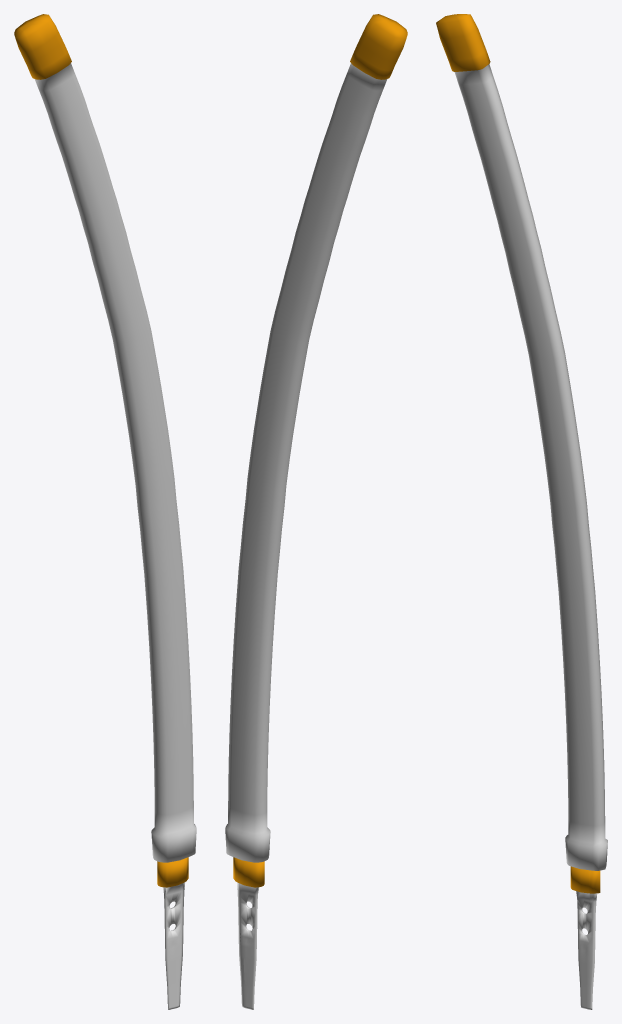
File: sword.fbx
3 views of the same model, side by side, from view 1: azimuth 30°, elevation 25°; view 2: azimuth 150°, elevation 25°; view 3: azimuth 330°, elevation 25° (orthographic). The views are drawn at different scales.
Parts seen in each view (by area): view 1: Cube.001, Cube; view 2: Cube.001, Cube; view 3: Cube.001, Cube.
Part boxes in pixels (x1,y1,x2,y2): Cube.001: (14,14,196,862); Cube: (157,857,188,1009); Cube.001: (225,14,407,862); Cube: (233,857,264,1009); Cube.001: (436,14,607,870); Cube: (570,866,600,1009).
Bounding box in the file's own units: 4258 × 23220 × 616.
